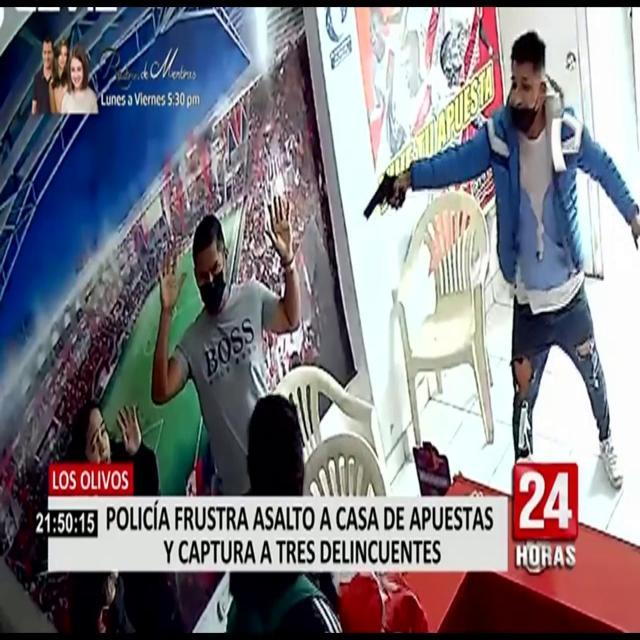weapon: (356, 156, 409, 236)
